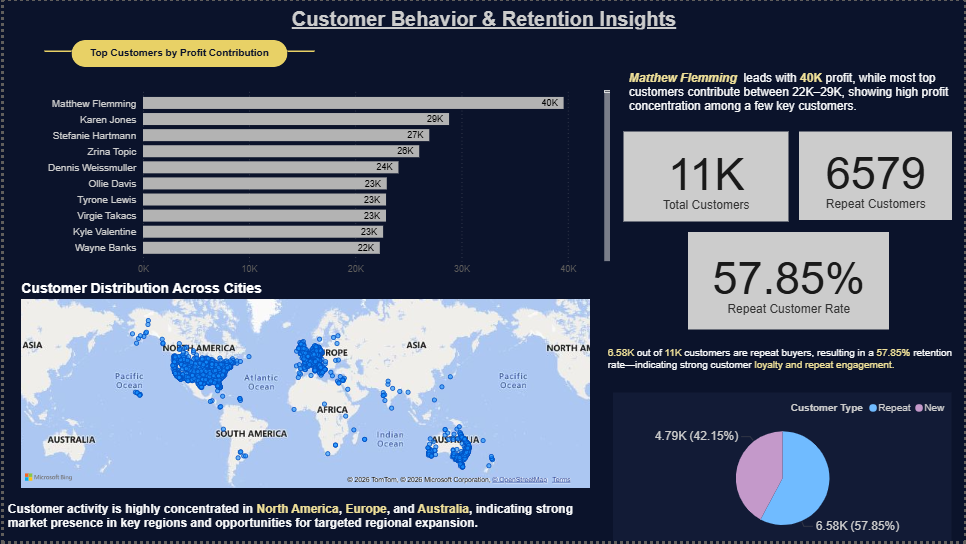

What the dashboard file says about the page in this screenshot:
{"tool":"powerbi","page":{"name":"Customer Insights","canvas":[1280,720],"ordinal":1},"visuals":[{"type":"textbox","title":"Customer Behavior & Retention Insights","box":[272,0,736,38],"z":0},{"type":"shape","box":[90,52,288,36],"z":1000},{"type":"shape","box":[378,62,36,10],"z":2000},{"type":"shape","box":[54,62,36,10],"z":3000},{"type":"clusteredBarChart","title":"Top Customers by Profit Contribution","fields":{"Category":["customerCleaned_data.name"],"Y":["customerCleaned_data.Total Profit"]},"box":[17.5,105,795,267.5],"z":4000},{"type":"card","fields":{"Values":["customerCleaned_data.Total Customers"]},"box":[826,174,220,120],"z":5000},{"type":"card","fields":{"Values":["customerCleaned_data.Repeat Customer Rate"]},"box":[912,308,268,130],"z":6000},{"type":"card","fields":{"Values":["customerCleaned_data.Repeat Customers"]},"box":[1060,174,204,118],"z":7000},{"type":"textbox","box":[828,88,438,86],"z":8000},{"type":"textbox","box":[799.4,455.4,480,51],"z":9000},{"type":"pieChart","fields":{"Y":["Count(customerCleaned_data.customerkey)"],"Category":["customerCleaned_data.Customer Type"]},"box":[812.6,521.6,451.7,198.4],"z":10000},{"type":"map","title":"Customer Distribution Across Cities","fields":{"Category":["customerCleaned_data.city"]},"box":[17.5,372.5,767.5,282.5],"z":11000},{"type":"textbox","box":[0,661.7,800,58.3],"z":11001}]}

Visuals, with their boxes in screenshot pixels (x1, y1, x2, y2), scaled from the page's 1280x720 canvas onto the 966x544 screenshot:
"Customer Behavior & Retention Insights" textbox: [205, 0, 761, 29]
shape: [68, 39, 285, 66]
shape: [285, 47, 312, 54]
shape: [41, 47, 68, 54]
"Top Customers by Profit Contribution" clusteredBarChart: [13, 79, 613, 281]
card - customerCleaned_data.Total Customers: [623, 131, 789, 222]
card - customerCleaned_data.Repeat Customer Rate: [688, 233, 891, 331]
card - customerCleaned_data.Repeat Customers: [800, 131, 954, 221]
textbox: [625, 66, 955, 131]
textbox: [603, 344, 965, 383]
pieChart - Count(customerCleaned_data.customerkey) x customerCleaned_data.Customer Type: [613, 394, 954, 543]
"Customer Distribution Across Cities" map: [13, 281, 592, 495]
textbox: [0, 500, 604, 543]
